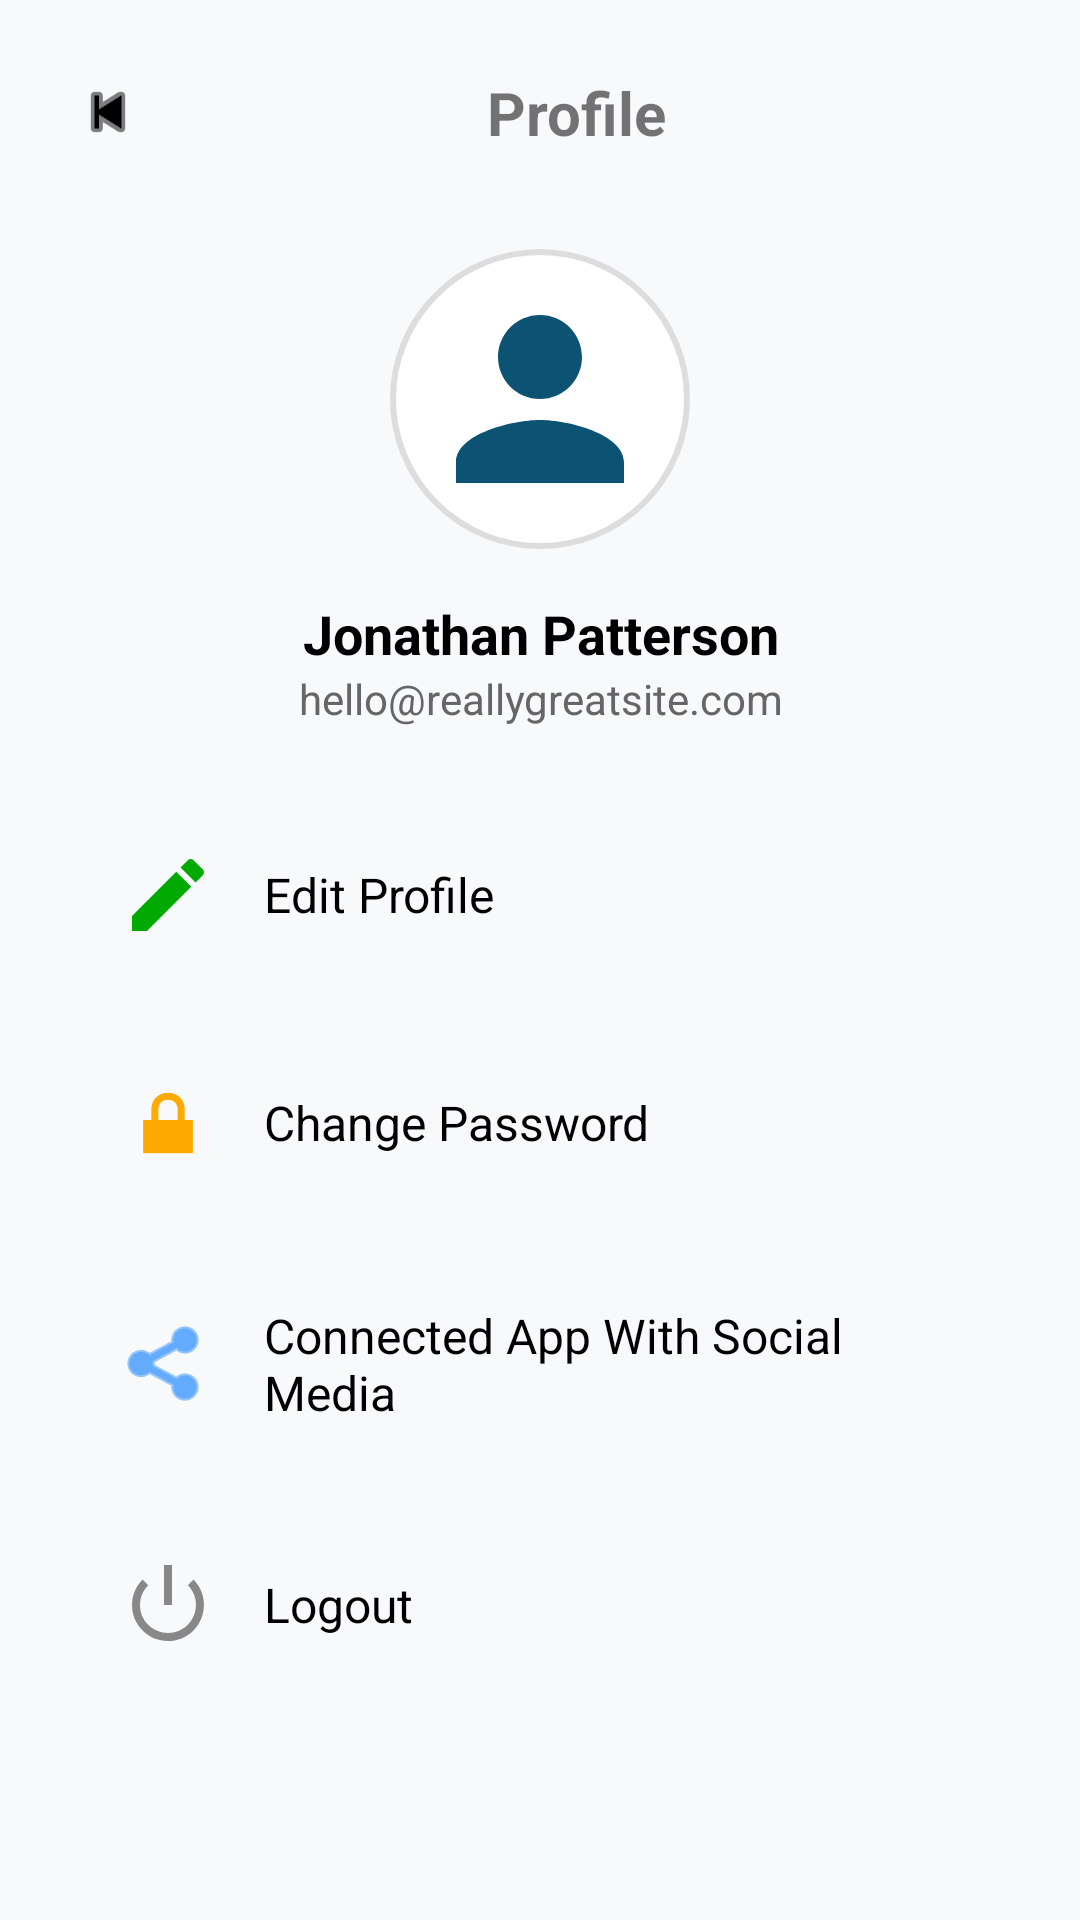

Locate icon controls on the screen. Image size 1080*1920, boxes as (x1, y1, x2, y2).
lock: (143, 1092, 193, 1154)
lock power off: (132, 1565, 204, 1641)
previous: (91, 92, 125, 132)
share: (127, 1326, 199, 1401)
